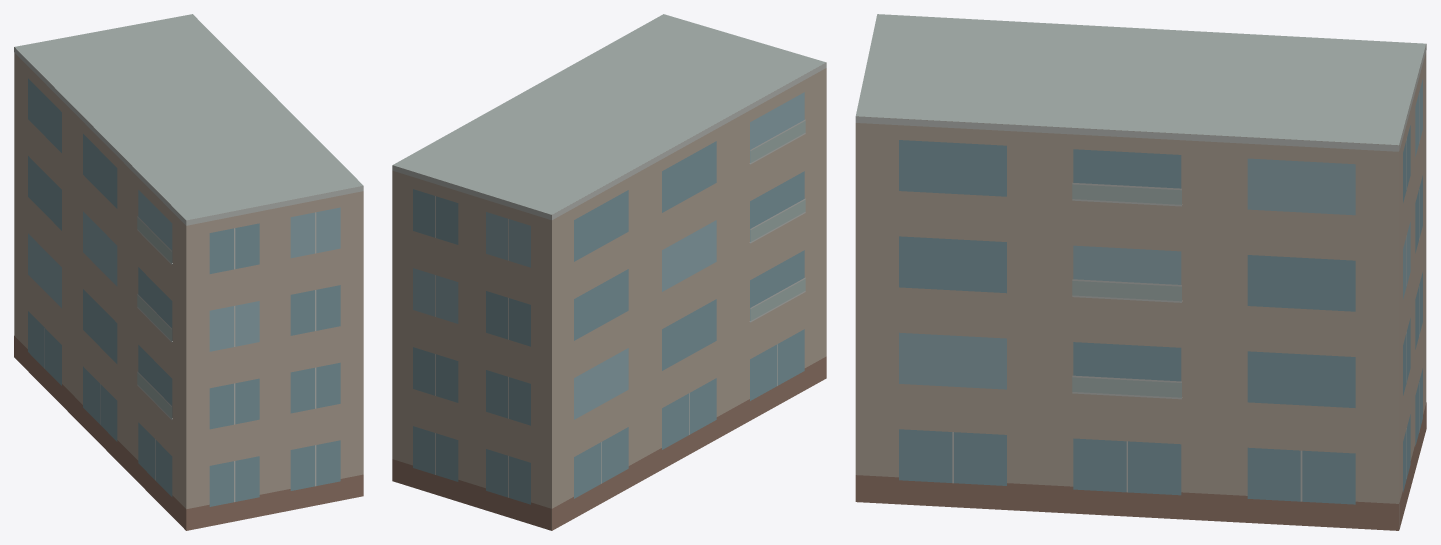
The model's file is survey-upis-32813929.glb.
3 renders of one model, left to right at view 1: azimuth 30°, elevation 25°; view 2: azimuth 150°, elevation 25°; view 3: azimuth 270°, elevation 25°, orthographic. The views are drawn at different scales.
Parts seen in each view (by area): view 1: survey-upis-32813929.tmp; view 2: survey-upis-32813929.tmp; view 3: survey-upis-32813929.tmp.
Part boxes in pixels (x1,y1,x2,y2): survey-upis-32813929.tmp: (14,14,363,530); survey-upis-32813929.tmp: (392,14,826,530); survey-upis-32813929.tmp: (855,14,1426,530).
Bounding box in the file's own units: 10.37 × 14.2 × 19.05.
